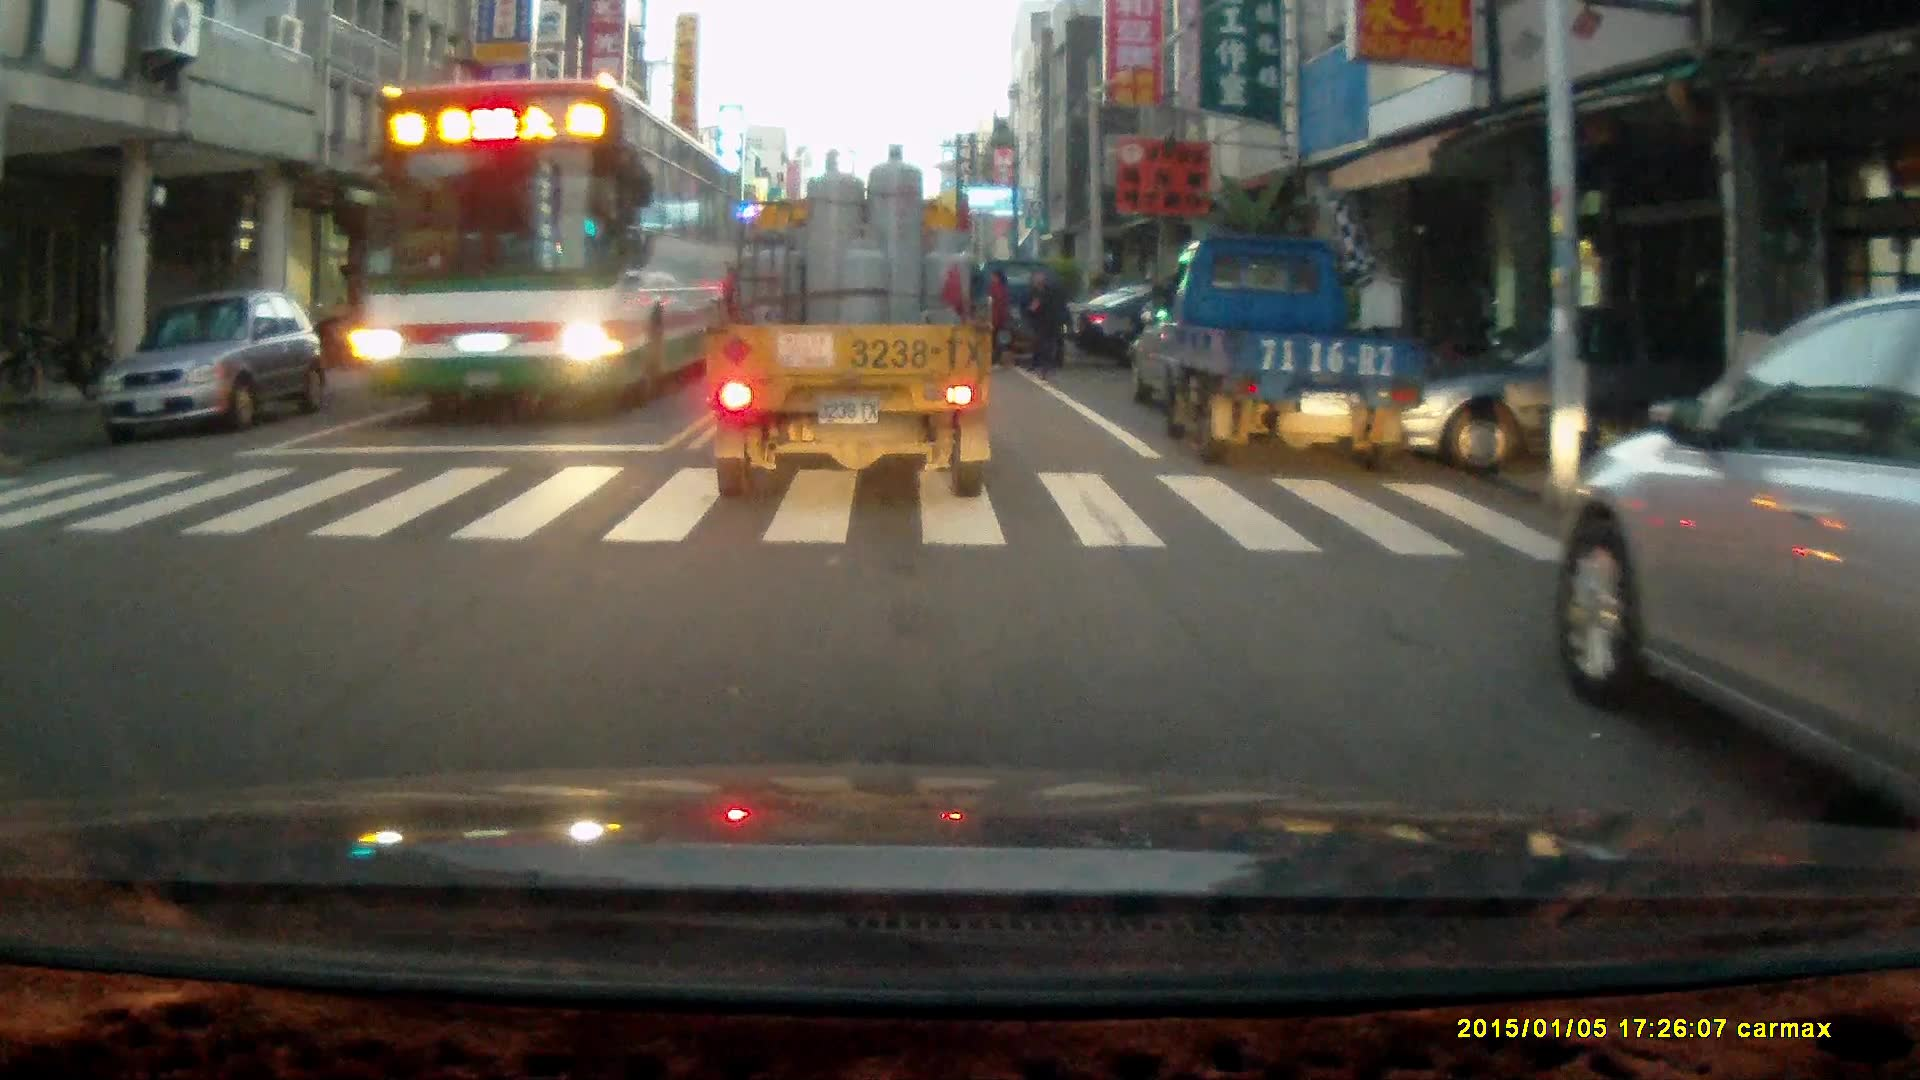pedestrian: (1017, 266, 1067, 381), (981, 264, 1011, 373)
vehicle: (1560, 293, 1920, 830), (355, 76, 742, 409), (700, 142, 997, 502), (1139, 231, 1424, 465), (1420, 332, 1744, 474), (100, 290, 325, 439), (349, 282, 527, 371), (973, 259, 1074, 371)
